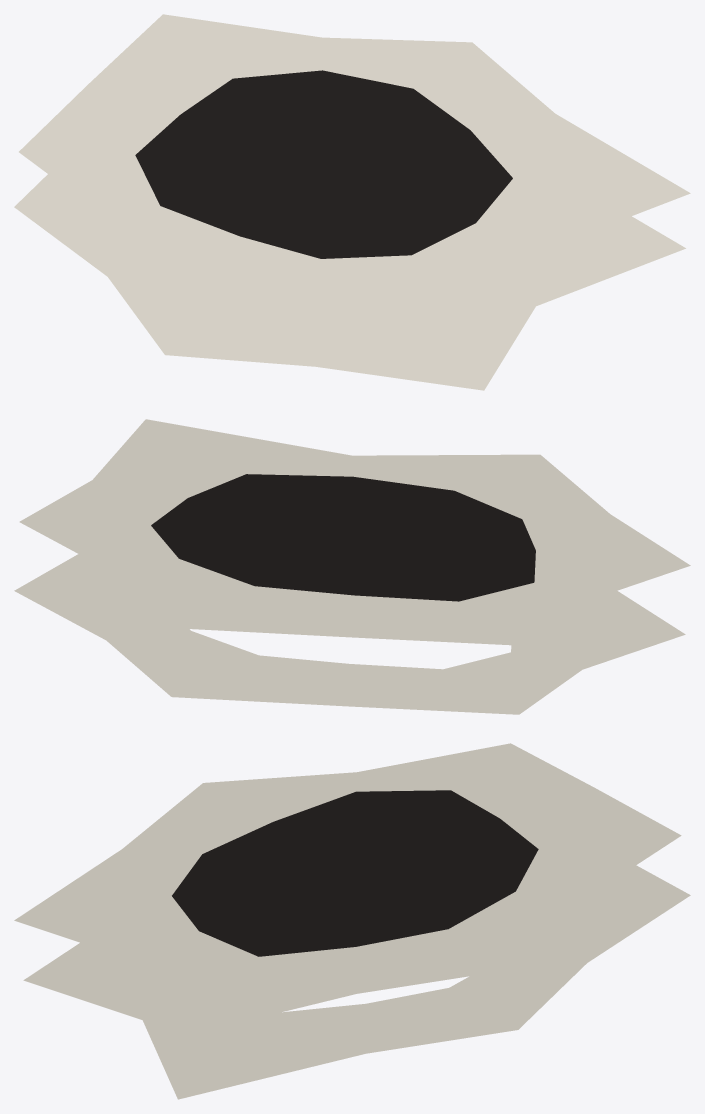
File: hole_stand_04.obj
3 renders of one model, top to bottom at view 1: azimuth 30°, elevation 25°; view 2: azimuth 150°, elevation 25°; view 3: azimuth 270°, elevation 25°, orthographic. The views are drawn at different scales.
Size of the model in its own units: 0.0485 by 0.0129 by 0.0549.
